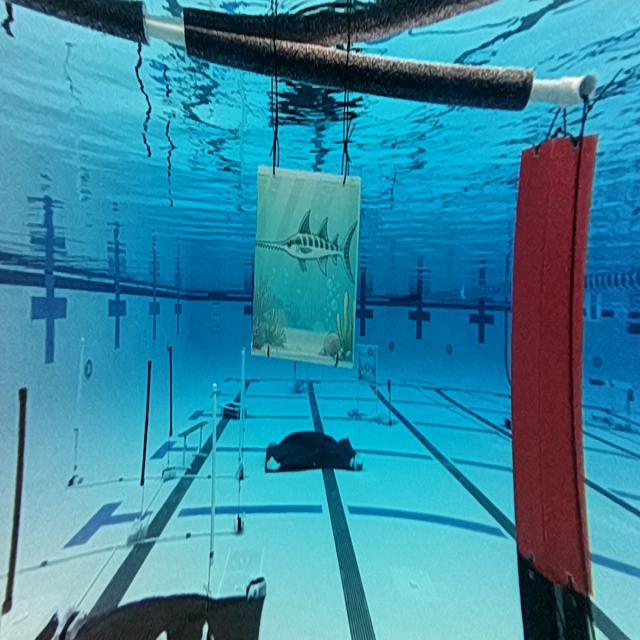pointed_nose: (254, 163, 360, 374)
